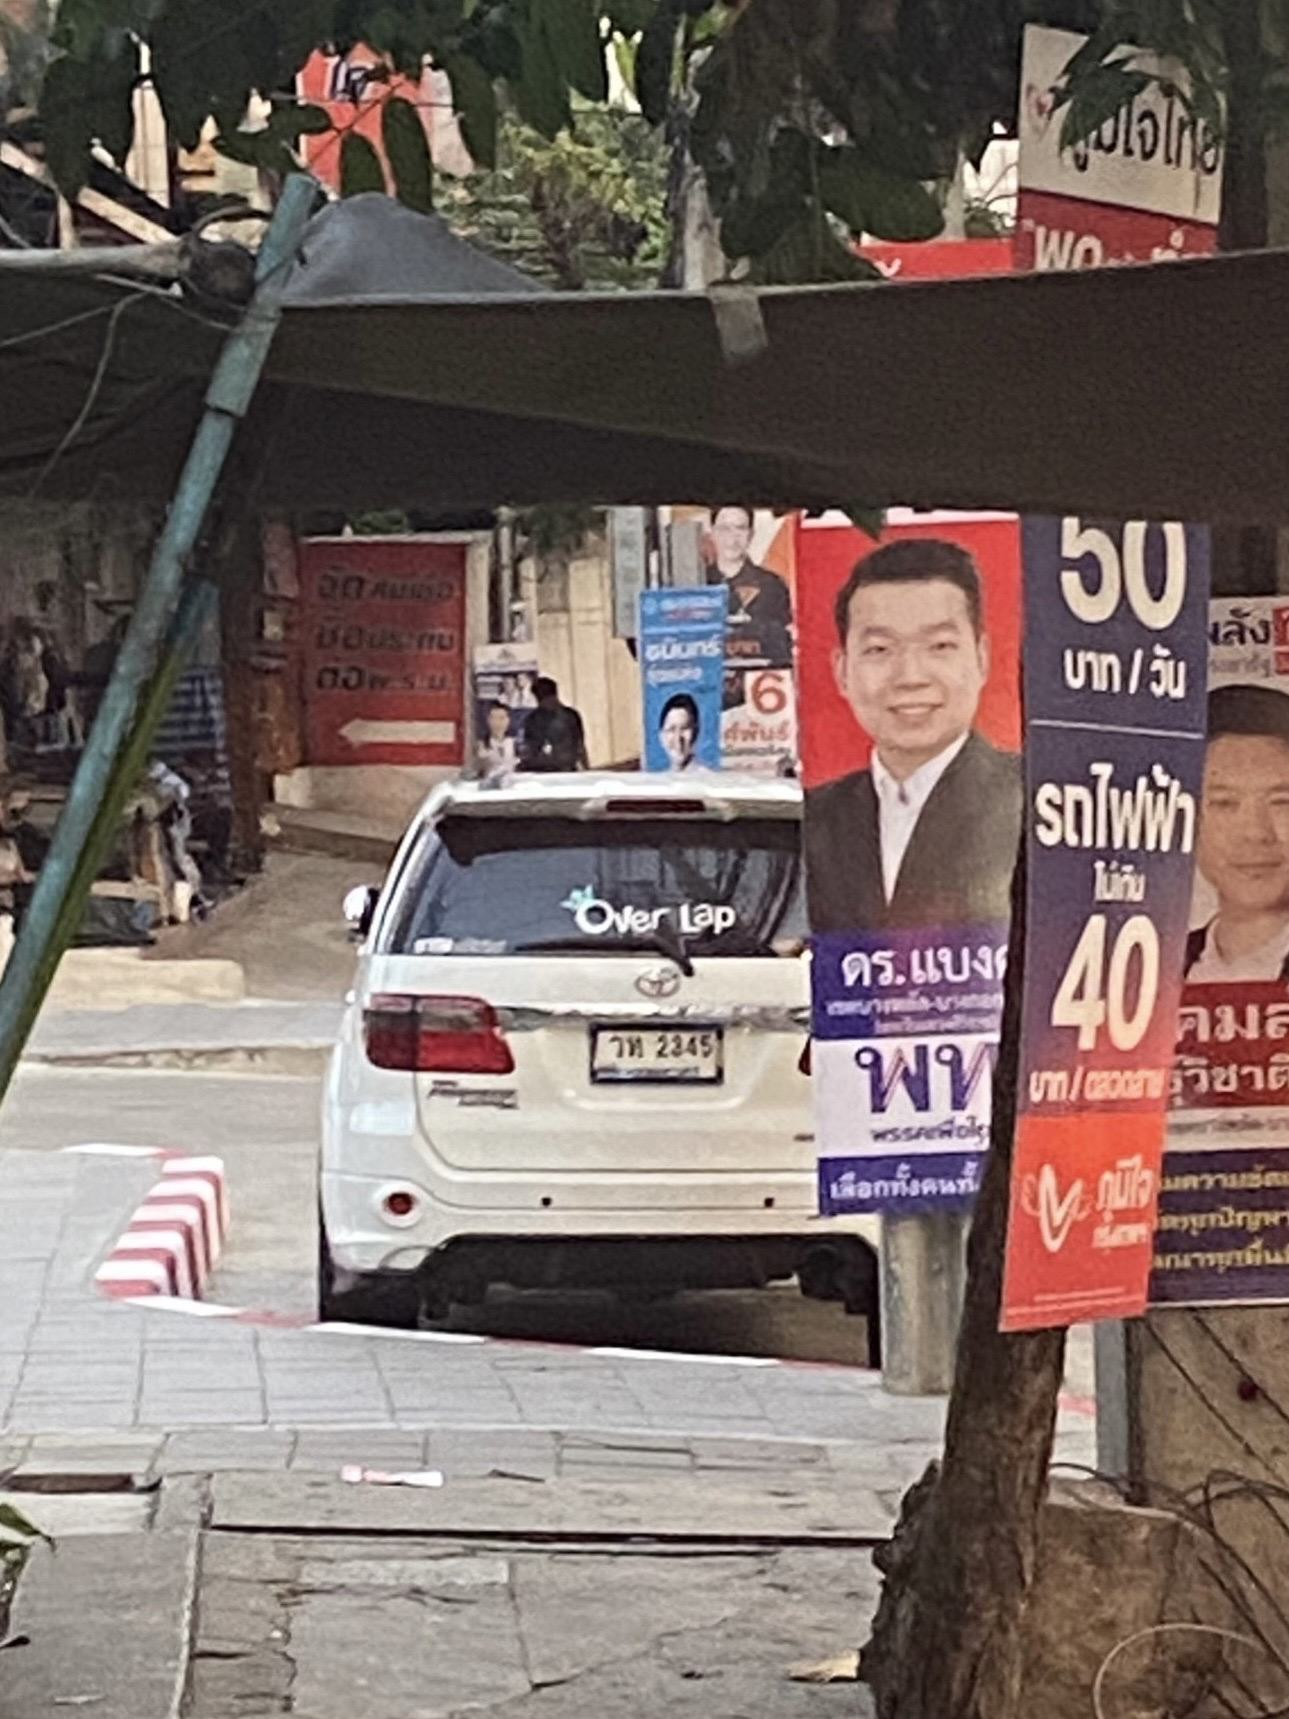Banner: (798, 246, 1018, 1224)
